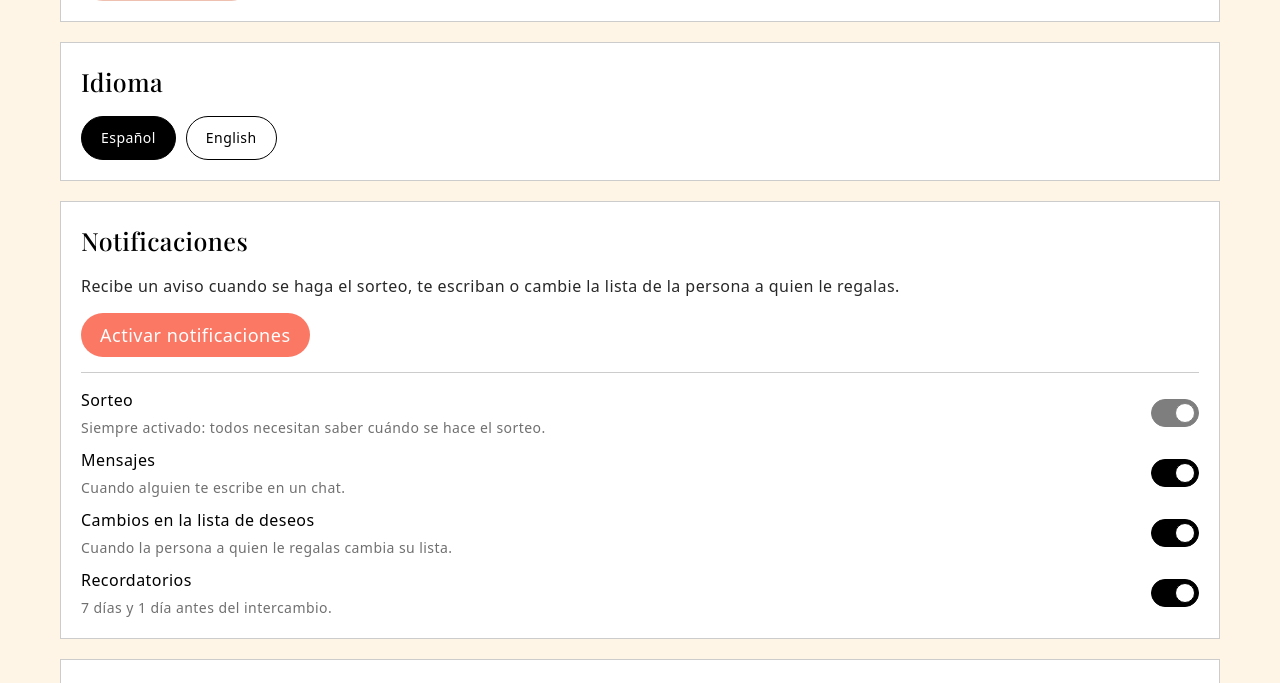
Test case: Profile › Notifications › a server without VAPID keys says so
(page scrolled)
Click the button "Activar notificaciones": coordinates (195, 335) [81,313,310,357]
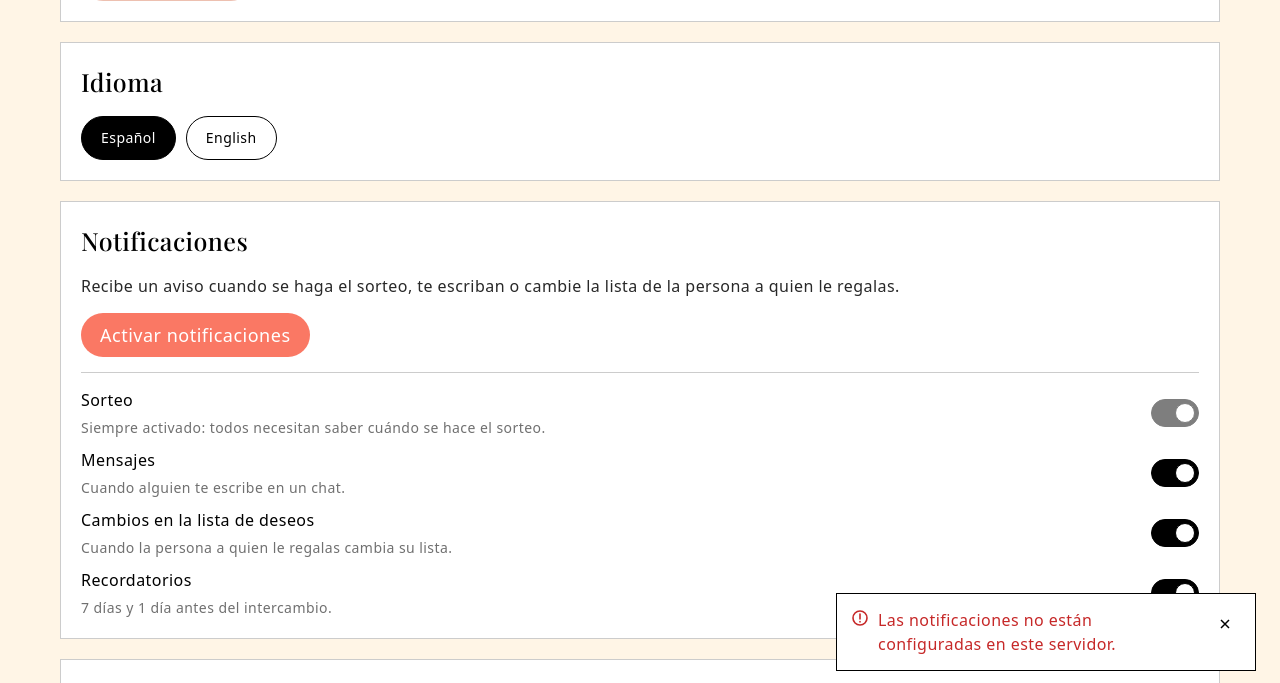
Expected: the text "Las notificaciones no están configuradas en este servidor." is shown, [878,609,1116,655]
